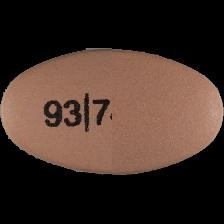0093-7440: (0, 0, 224, 224)
